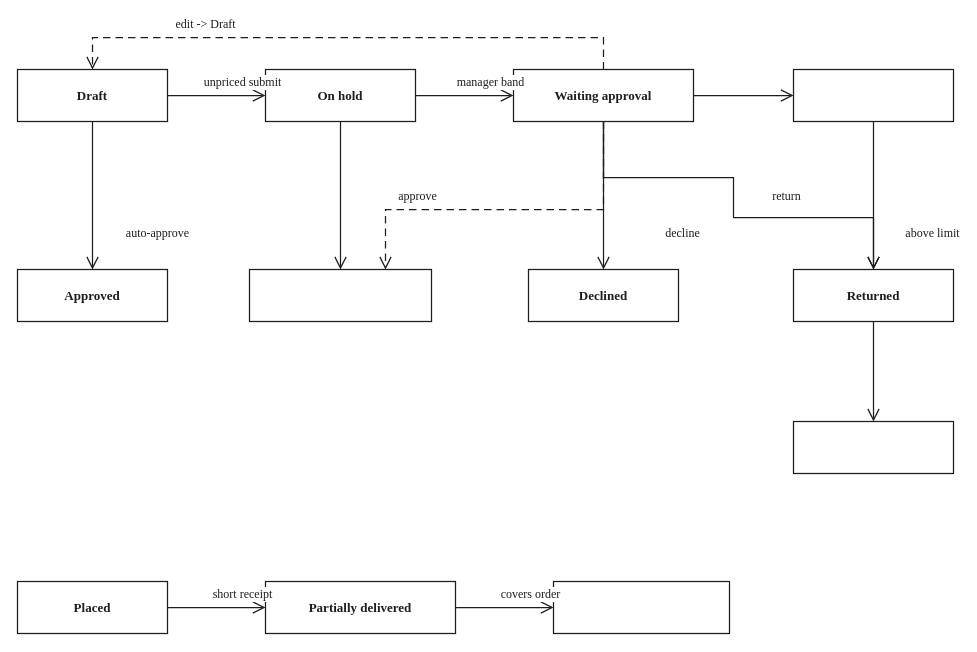
Some shapes in this 977 by 652 pixel diagram are drawn without their labels. Here are the shapes that lost their labels. From the top down, the centre of each, then its label:
At pixel 873 95: "Referred".
At pixel 340 295: "Partially approved".
At pixel 873 447: "Cancelled".
At pixel 641 607: "Fully delivered".
